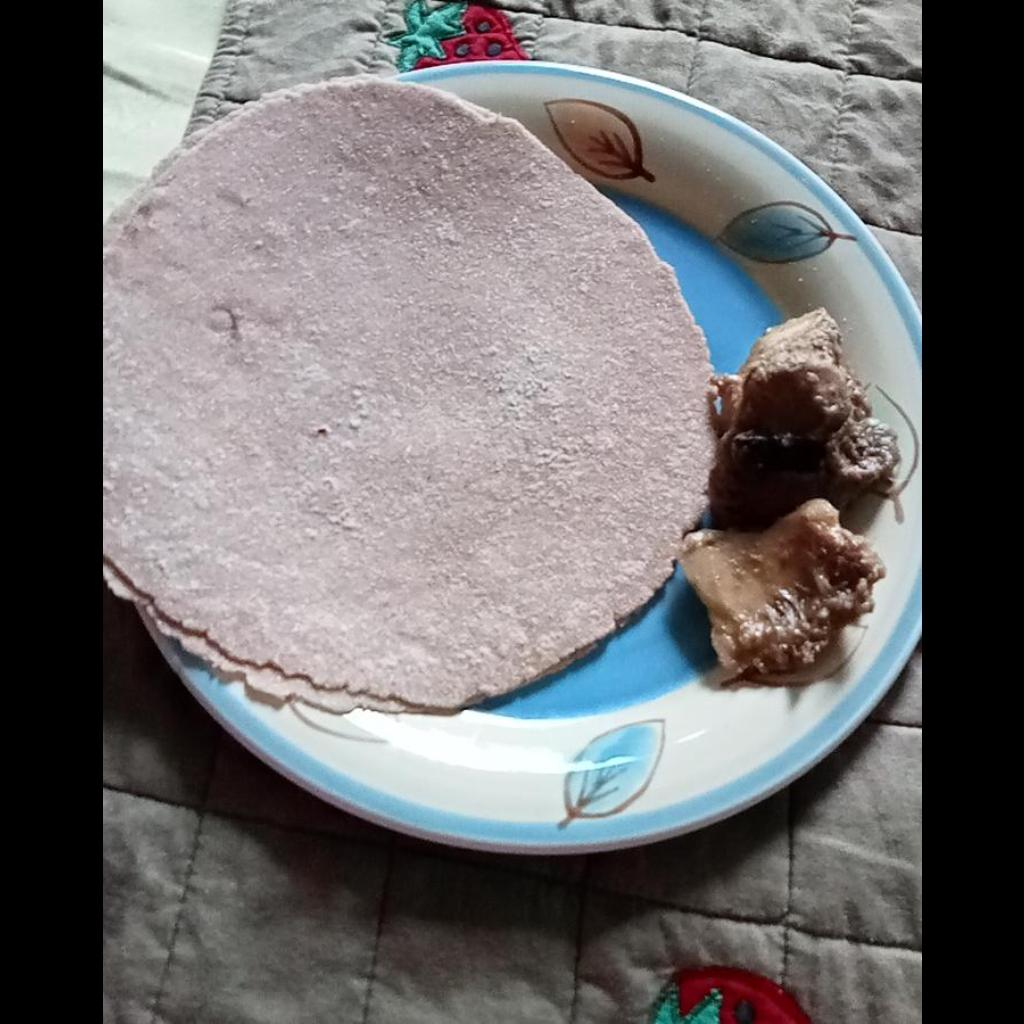beef: (678, 307, 894, 677)
ruti: (102, 76, 716, 715)
